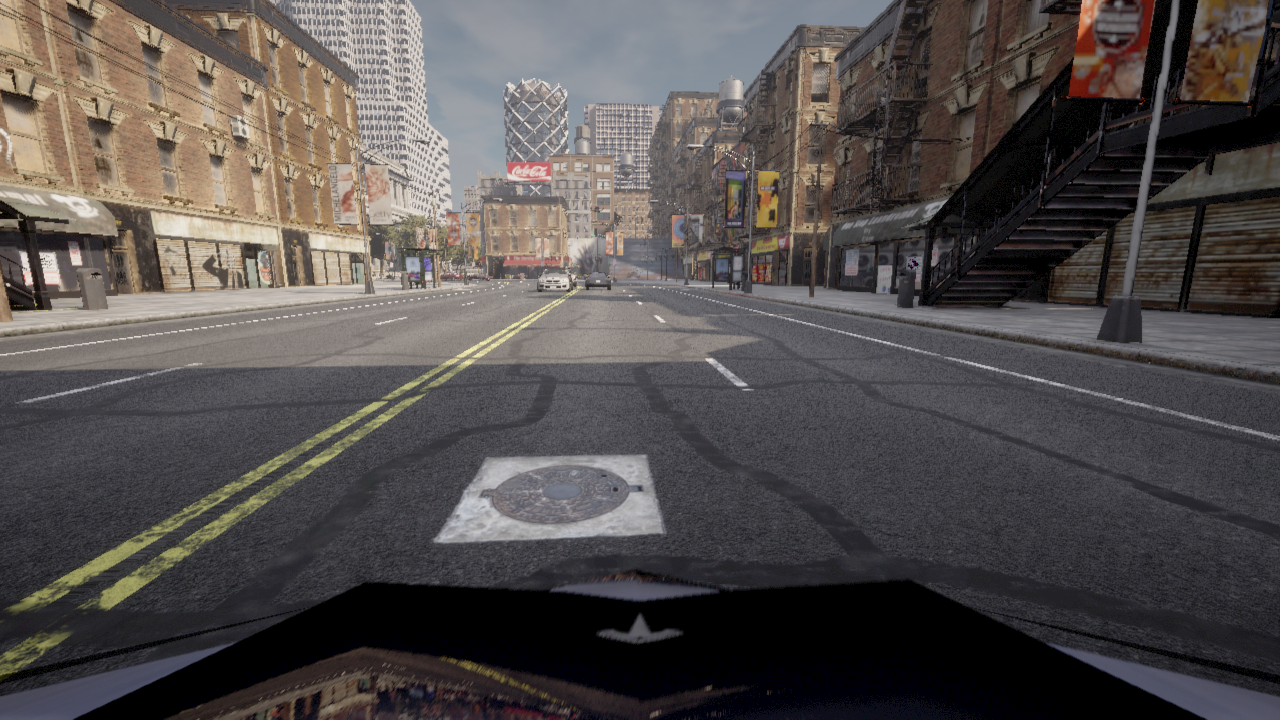cyclist: (0, 569, 1279, 719), (537, 267, 572, 291), (585, 272, 610, 289), (560, 267, 576, 286), (440, 272, 462, 280), (467, 273, 492, 280)
